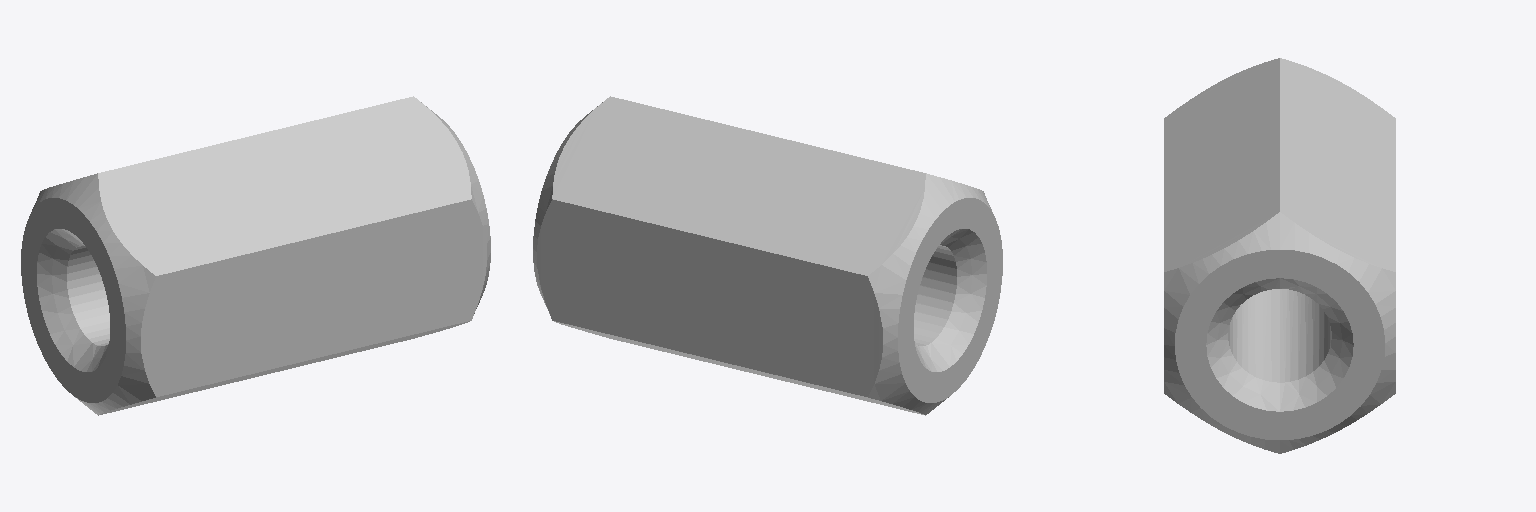
The model's file is Long Nut M3 10mm 3.obj.
3 renders of one model, left to right at view 1: azimuth 30°, elevation 25°; view 2: azimuth 150°, elevation 25°; view 3: azimuth 270°, elevation 25°, orthographic.
Parts seen in each view (by area): view 1: Long Nut M3 10mm 3.5.0; view 2: Long Nut M3 10mm 3.5.0; view 3: Long Nut M3 10mm 3.5.0.
Boxes of the visible parts, x1=… form: Long Nut M3 10mm 3.5.0: x1=21, y1=96, x2=490, y2=415; Long Nut M3 10mm 3.5.0: x1=533, y1=96, x2=1002, y2=415; Long Nut M3 10mm 3.5.0: x1=1164, y1=58, x2=1395, y2=453.
Bounding box in the file's own units: 10 × 6.35 × 5.5.